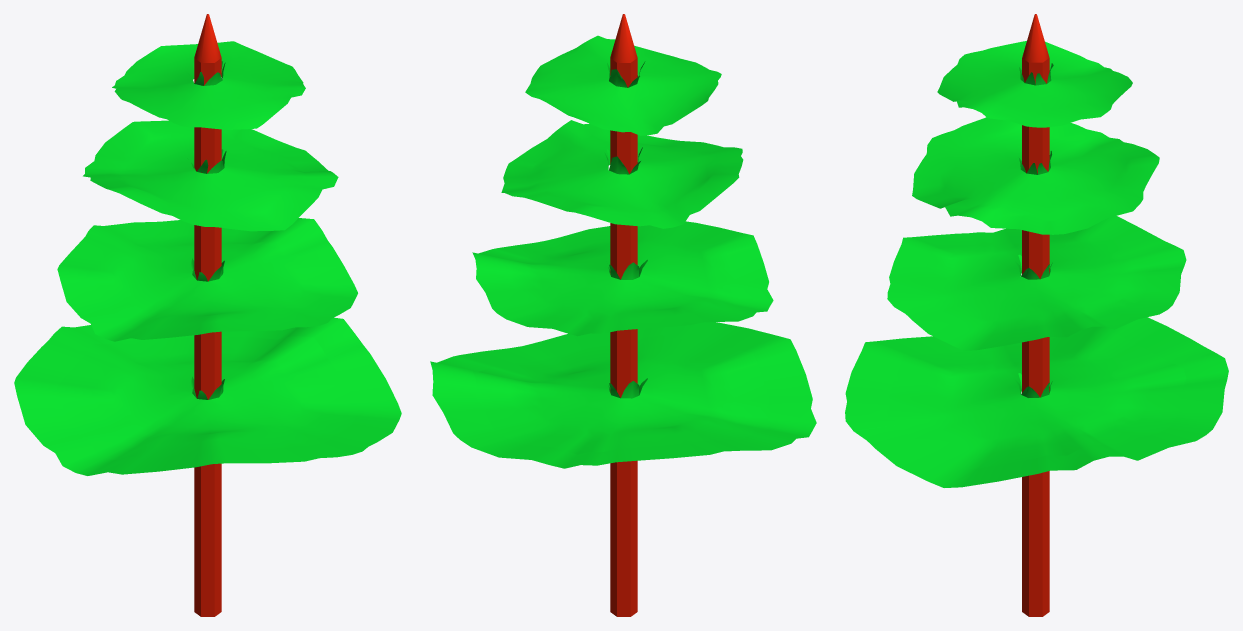
The model's file is Tree_V2.fbx.
3 views of the same model, side by side, from view 1: azimuth 30°, elevation 25°; view 2: azimuth 150°, elevation 25°; view 3: azimuth 270°, elevation 25° (orthographic).
Parts seen in each view (by area): view 1: CRAYON_Small; view 2: CRAYON_Small; view 3: CRAYON_Small.
Boxes of the visible parts, <box> form: CRAYON_Small: <box>14,14,401,616</box>; CRAYON_Small: <box>430,14,816,616</box>; CRAYON_Small: <box>845,14,1228,616</box>.
Bounding box in the file's own units: 280 × 480 × 279.
